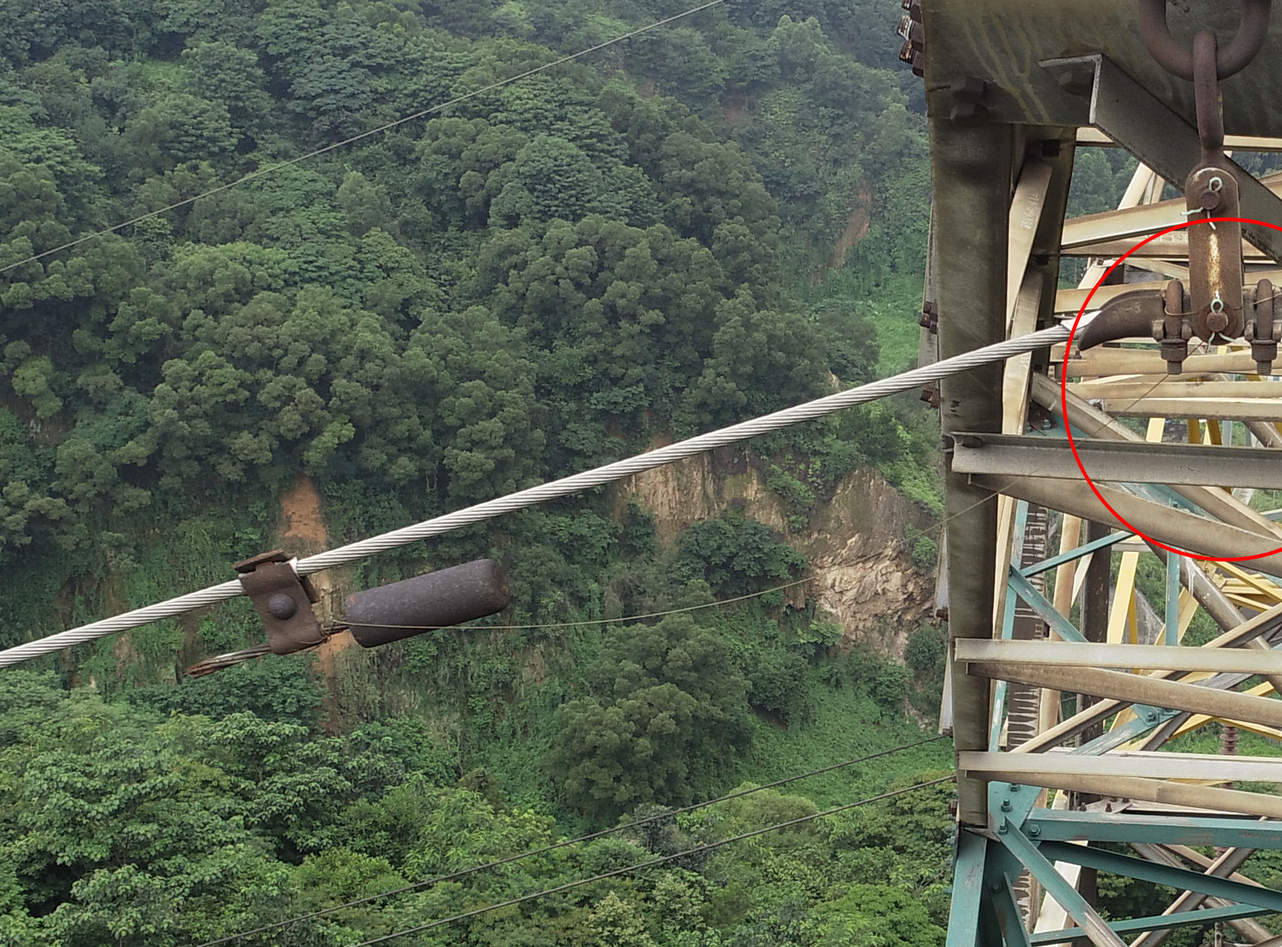damper_defect: (174, 542, 512, 687)
